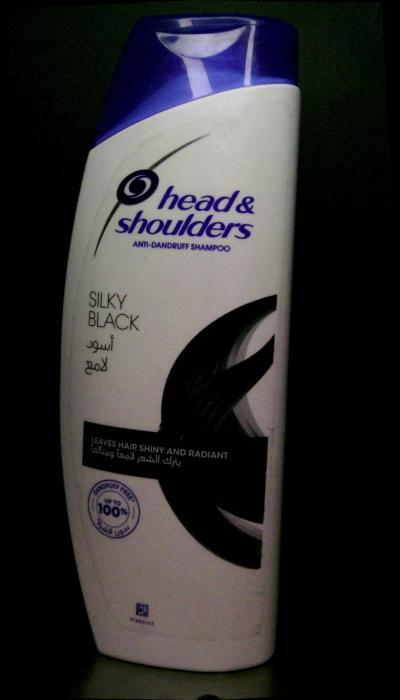tear_marg: (241, 575, 282, 614)
